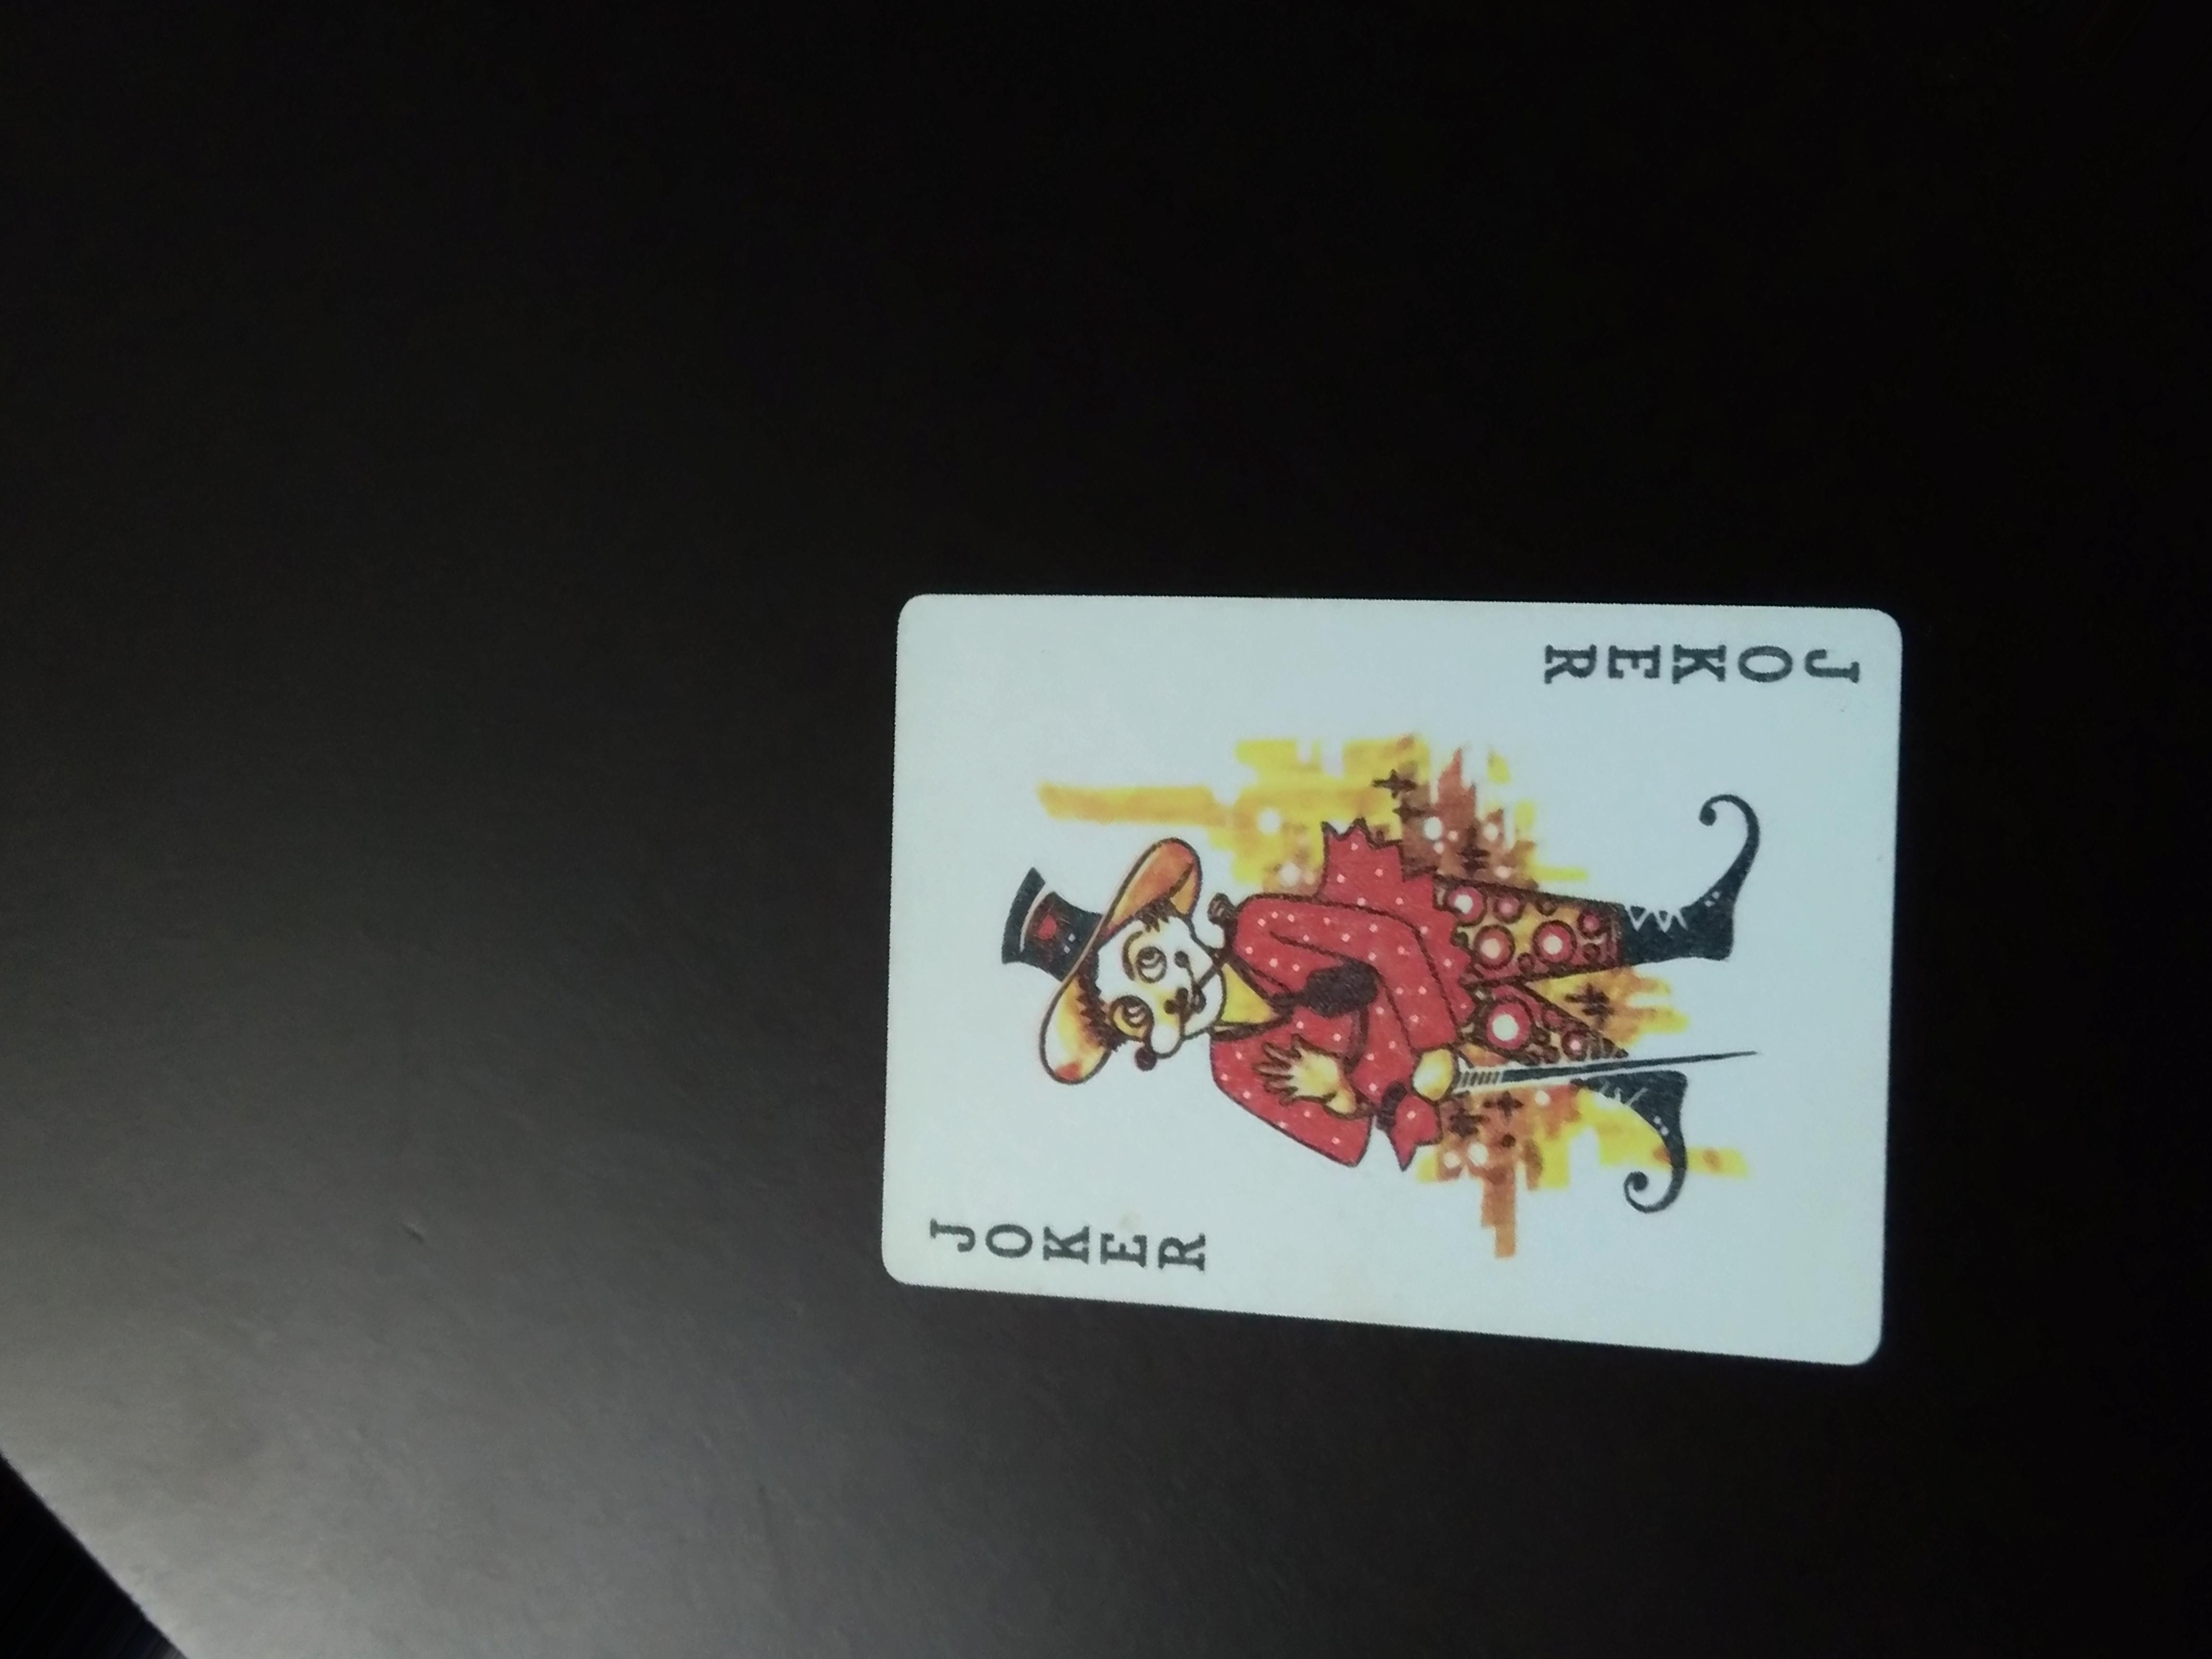JOKER: (1517, 613, 1871, 725)
